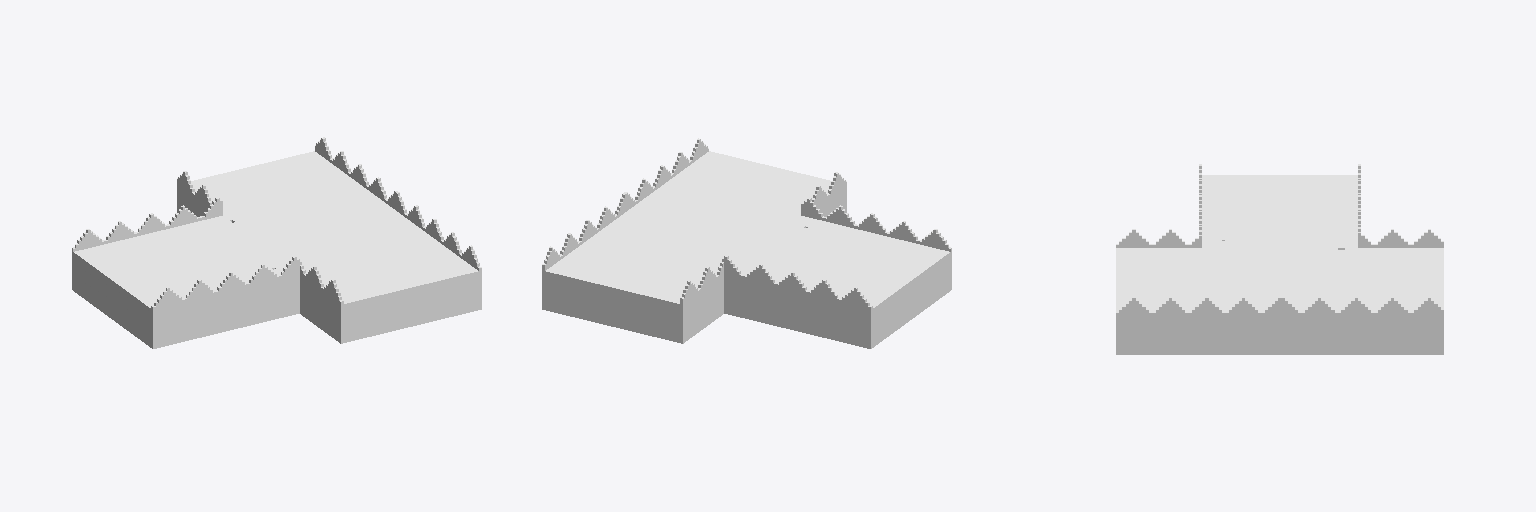
Rendered from pathT.obj.
3 views of the same model, side by side, from view 1: azimuth 30°, elevation 25°; view 2: azimuth 150°, elevation 25°; view 3: azimuth 270°, elevation 25° (orthographic).
Visible parts, largest first — view 1: object 1; view 2: object 1; view 3: object 1.
Part boxes in pixels (bbox=[...]): object 1: bbox=[72, 137, 481, 348]; object 1: bbox=[542, 138, 951, 348]; object 1: bbox=[1116, 164, 1443, 354].
Size of the model in its own units: 10 by 1.9 by 9.9.